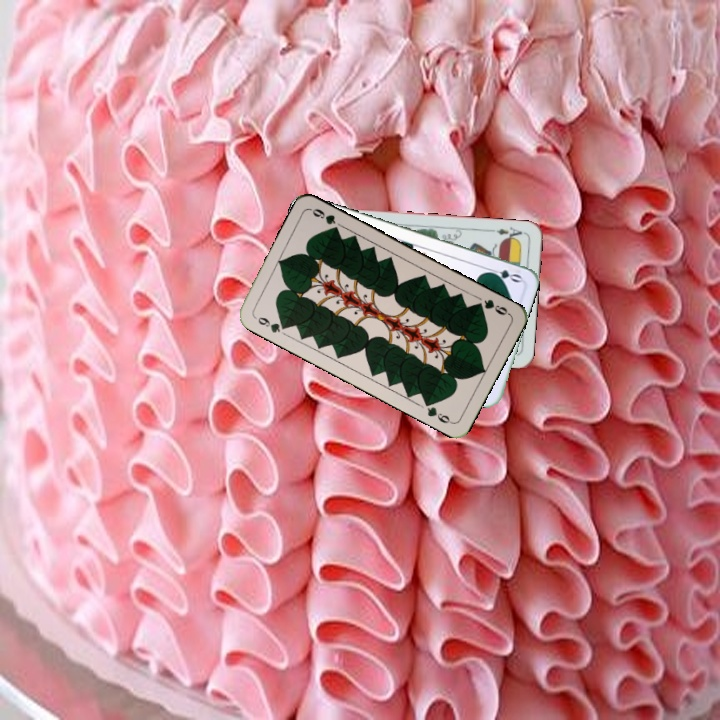EA: (486, 223, 524, 243)
G9: (471, 295, 512, 318), (254, 313, 291, 335)
GO: (483, 264, 524, 285)
